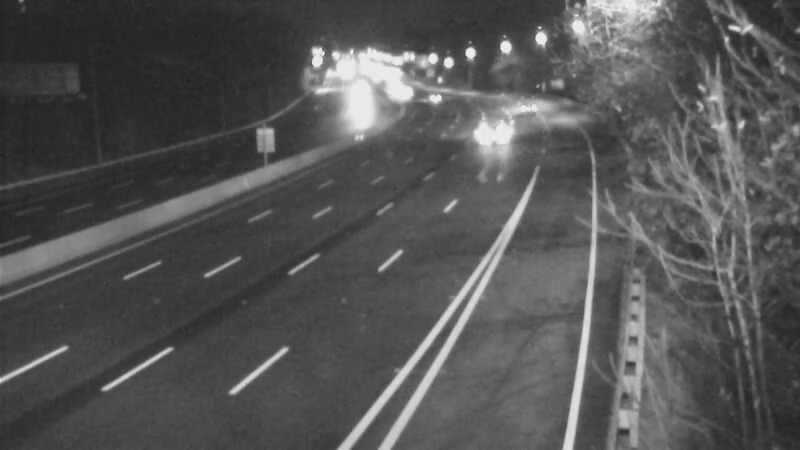vehicle: (408, 74, 458, 124), (500, 82, 550, 132), (468, 106, 518, 156)
